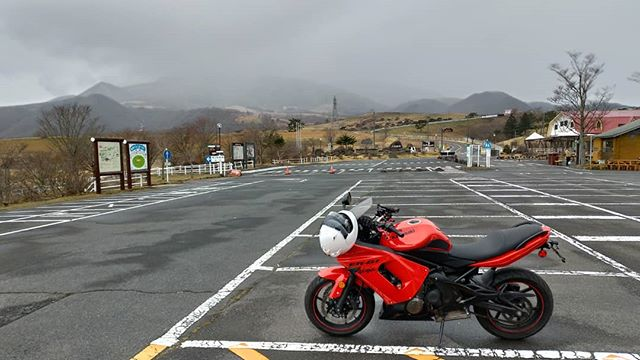building: (545, 104, 640, 180)
motorcycle: (318, 213, 549, 345)
sign: (90, 136, 125, 178), (126, 134, 151, 182)
sky: (1, 1, 640, 84)
tree: (27, 93, 120, 204), (545, 47, 612, 162)
